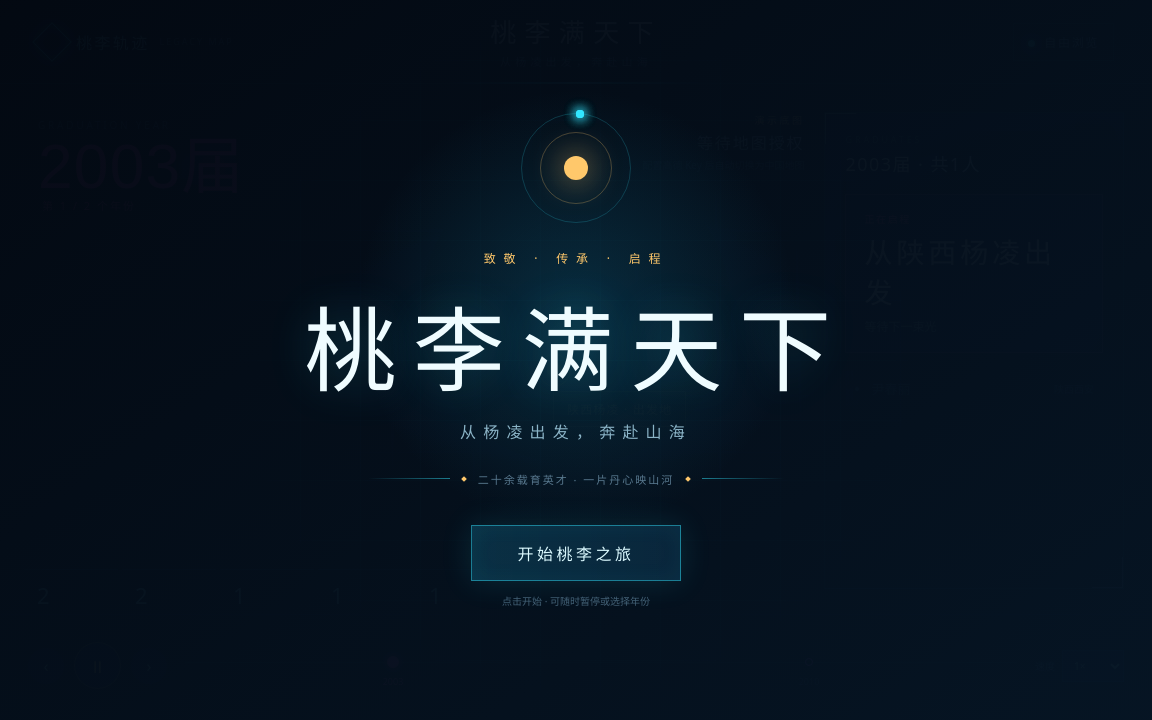
it: TaoliExperience › keeps the current student visible while playback is paused
Click the button "开始桃李之旅" at (576, 552), box [471,524,681,580]
Wait 800 ms
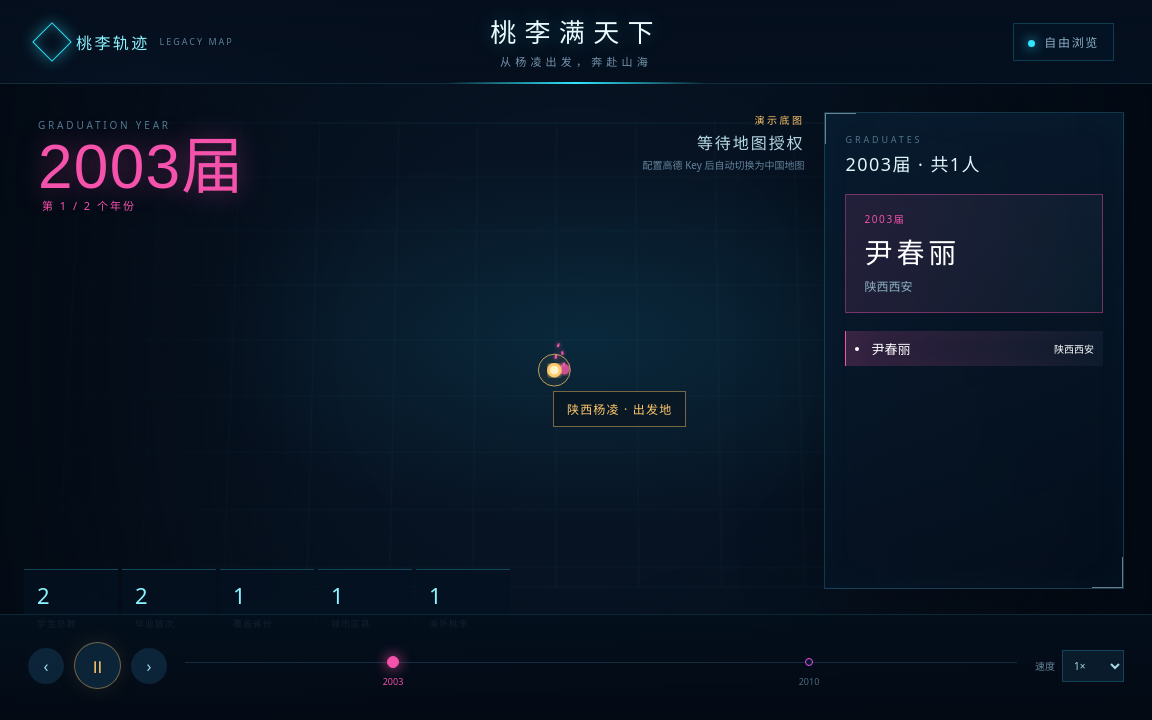
Expected: the 1st text "尹春丽" is shown, [864,238,960,269]
Click the button named "暂停播放" at (98, 666), box [74,642,121,689]
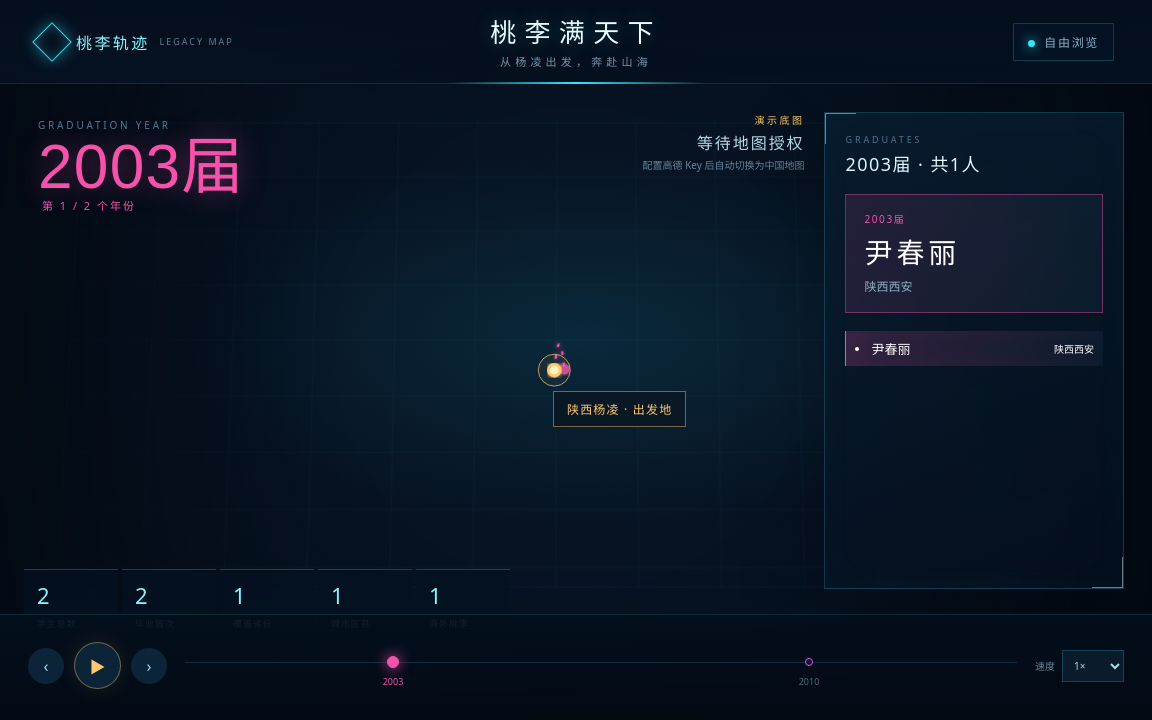
Expected: the 1st text "尹春丽" is shown, [864,238,960,269]
Expected: the button named "继续播放" is shown, [74,642,121,689]
